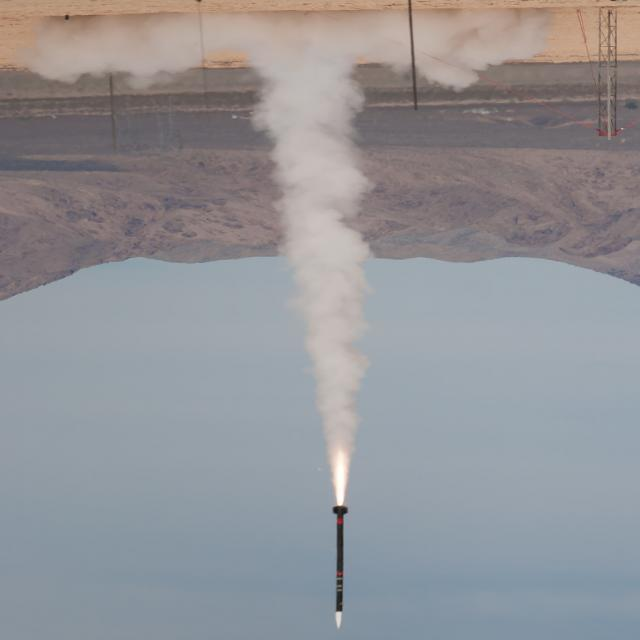missile: (324, 503, 356, 630)
